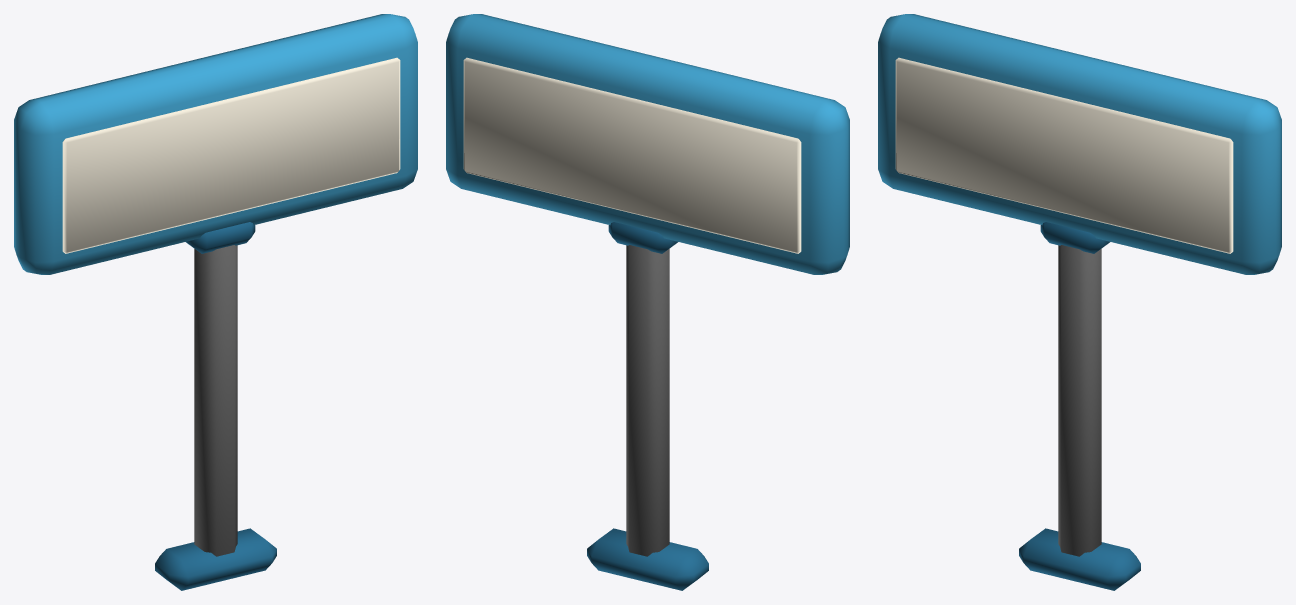
The model's file is station-sign.glb.
The picture shows the model from 3 angles, left to right: view 1: azimuth 30°, elevation 25°; view 2: azimuth 150°, elevation 25°; view 3: azimuth 330°, elevation 25°; orthographic projection.
Parts seen in each view (by area): view 1: station-sign; view 2: station-sign; view 3: station-sign.
Boxes of the visible parts, box(x1,y1,x2,y2) form: station-sign: box(14, 14, 417, 590); station-sign: box(446, 14, 849, 590); station-sign: box(878, 14, 1281, 590).
Size of the model in its own units: 2.4 by 3 by 0.36.
